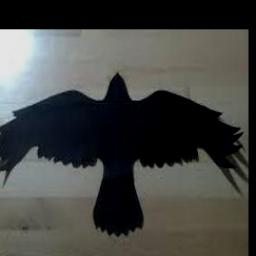Crow: (0, 72, 242, 236)
